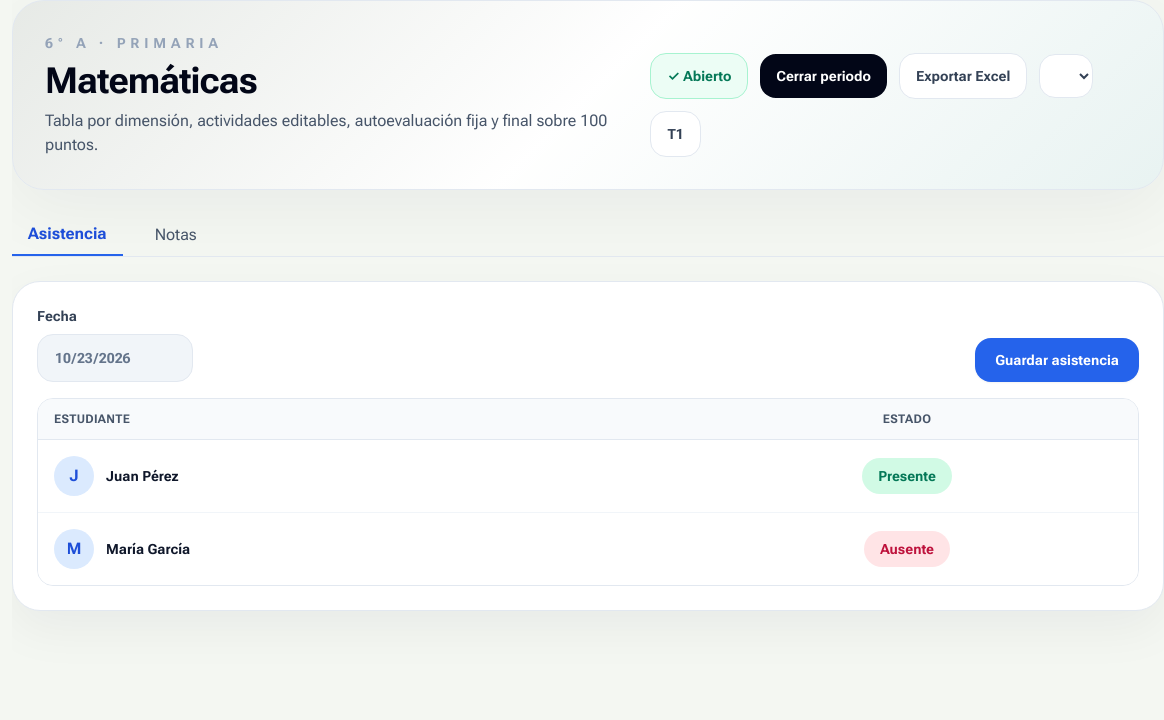
Test: CourseDetailPage › alterna el estado de asistencia al hacer clic
Click the button "Presente" at (907, 476), box [862,458,952,494]
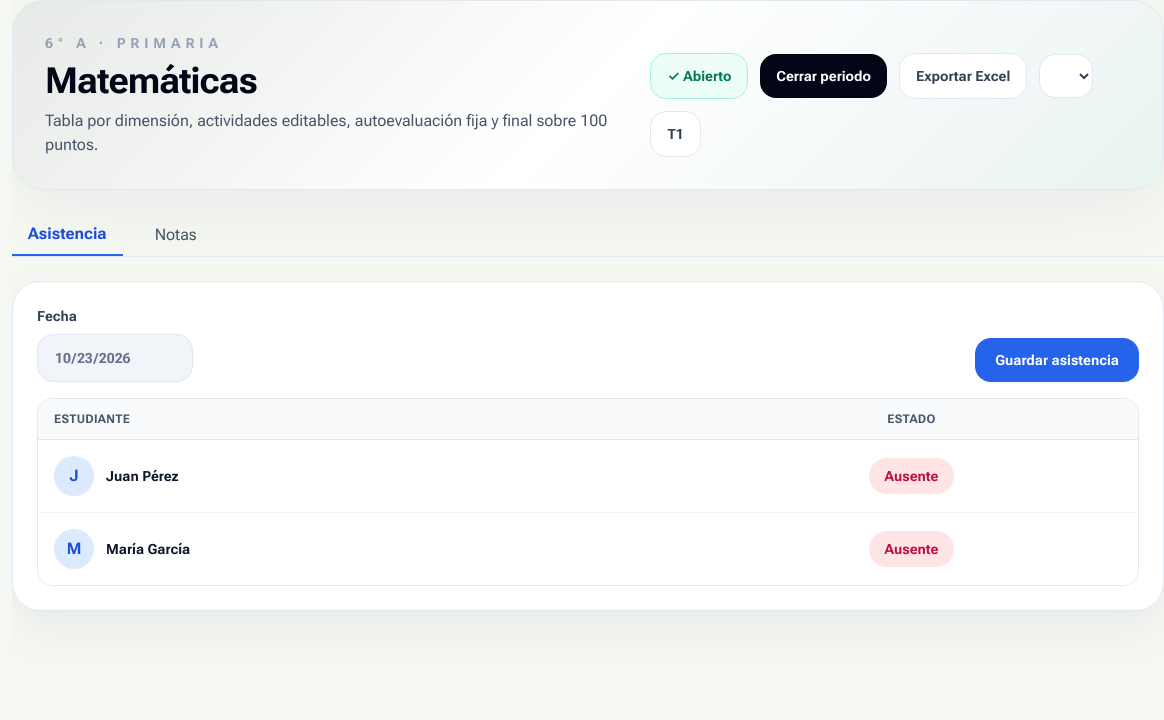
Expected: the button "Presente" is gone
